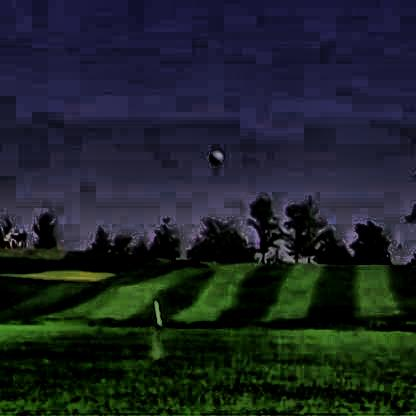golfball: (206, 147, 221, 163)
